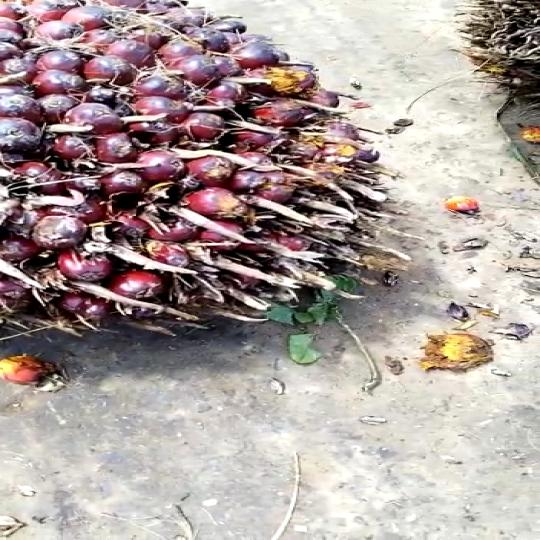masak: (0, 0, 449, 393)
